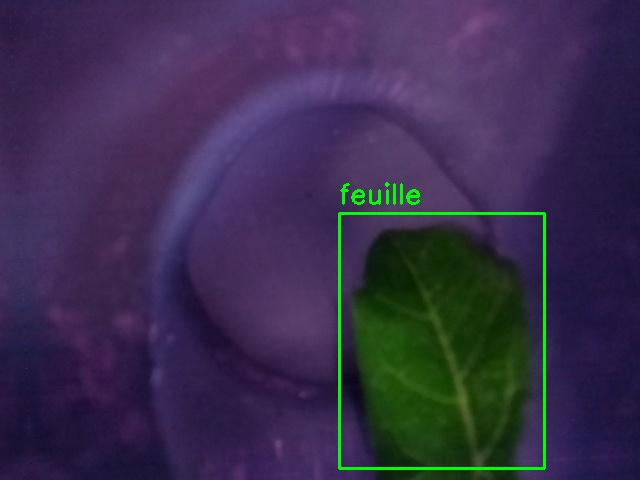feuille: (339, 213, 544, 468)
